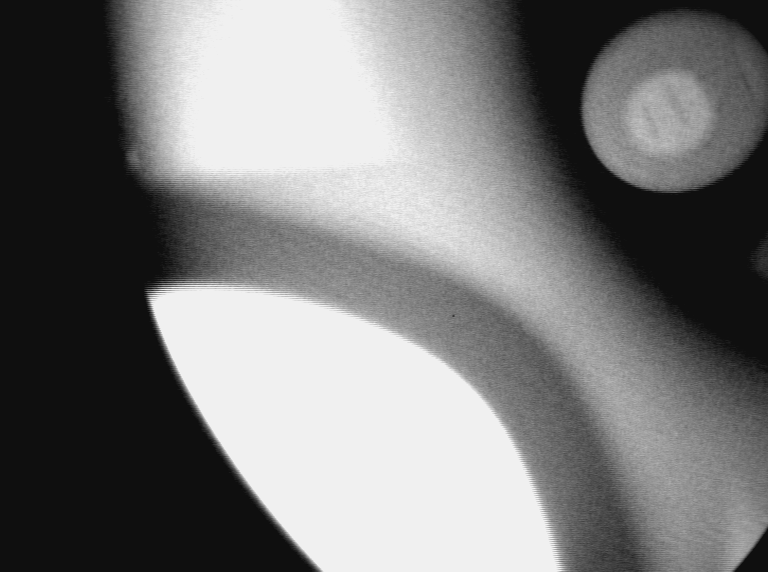defect: (116, 90, 138, 117)
